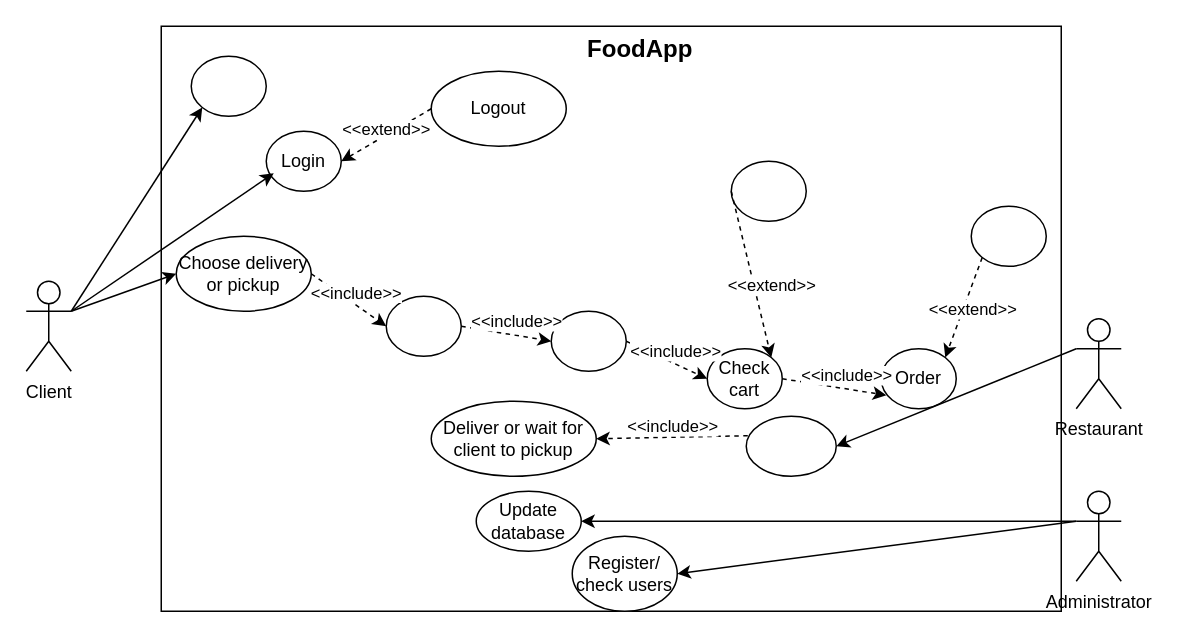
This 1178x639 diagram has some shape labels left out. The box of each missing label's shape, as (x1, y1, x2, y2) in pixels:
Check status: (970, 205, 1046, 266)
Choose meals: (550, 310, 626, 371)
Choose restaurant: (385, 295, 461, 356)
Clear cart: (730, 160, 806, 221)
Prepare meal: (745, 415, 836, 476)
Register: (190, 55, 266, 116)
